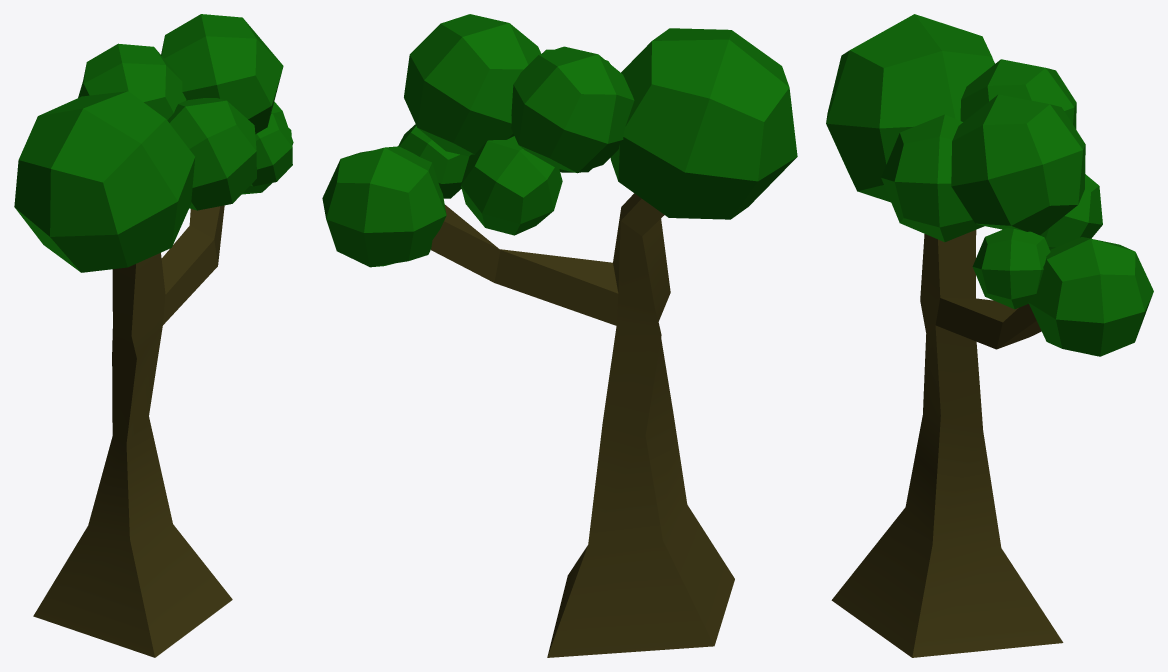
The model's file is A_BigTree.fbx.
3 views of the same model, side by side, from view 1: azimuth 30°, elevation 25°; view 2: azimuth 150°, elevation 25°; view 3: azimuth 270°, elevation 25° (orthographic). The views are drawn at different scales.
Visible parts, largest first — view 1: Box003, Box004, Box009, Box005, Box007, Box008; view 2: Box003, Box004, Box009, Box007, Box002, Box006, Box008; view 3: Box003, Box004, Box009, Box002, Box005, Box008, Box007, Box006.
Part boxes in pixels (x1=…): Box003: x1=33, y1=205, x2=232, y2=657; Box004: x1=14, y1=91, x2=195, y2=272; Box009: x1=161, y1=14, x2=283, y2=134; Box005: x1=167, y1=98, x2=256, y2=210; Box007: x1=78, y1=43, x2=186, y2=120; Box008: x1=250, y1=113, x2=292, y2=186; Box003: x1=431, y1=193, x2=734, y2=657; Box004: x1=610, y1=28, x2=797, y2=219; Box009: x1=404, y1=14, x2=541, y2=156; Box007: x1=511, y1=46, x2=634, y2=173; Box002: x1=322, y1=146, x2=446, y2=267; Box006: x1=461, y1=136, x2=562, y2=235; Box008: x1=398, y1=124, x2=468, y2=198; Box003: x1=831, y1=230, x2=1063, y2=657; Box004: x1=826, y1=14, x2=994, y2=202; Box009: x1=951, y1=94, x2=1085, y2=235; Box002: x1=1028, y1=237, x2=1153, y2=356; Box005: x1=881, y1=114, x2=984, y2=242; Box008: x1=972, y1=228, x2=1050, y2=309; Box007: x1=960, y1=59, x2=1076, y2=129; Box006: x1=1040, y1=174, x2=1102, y2=249.
Bounding box in the file's own units: 79.61 × 124 × 63.4.
